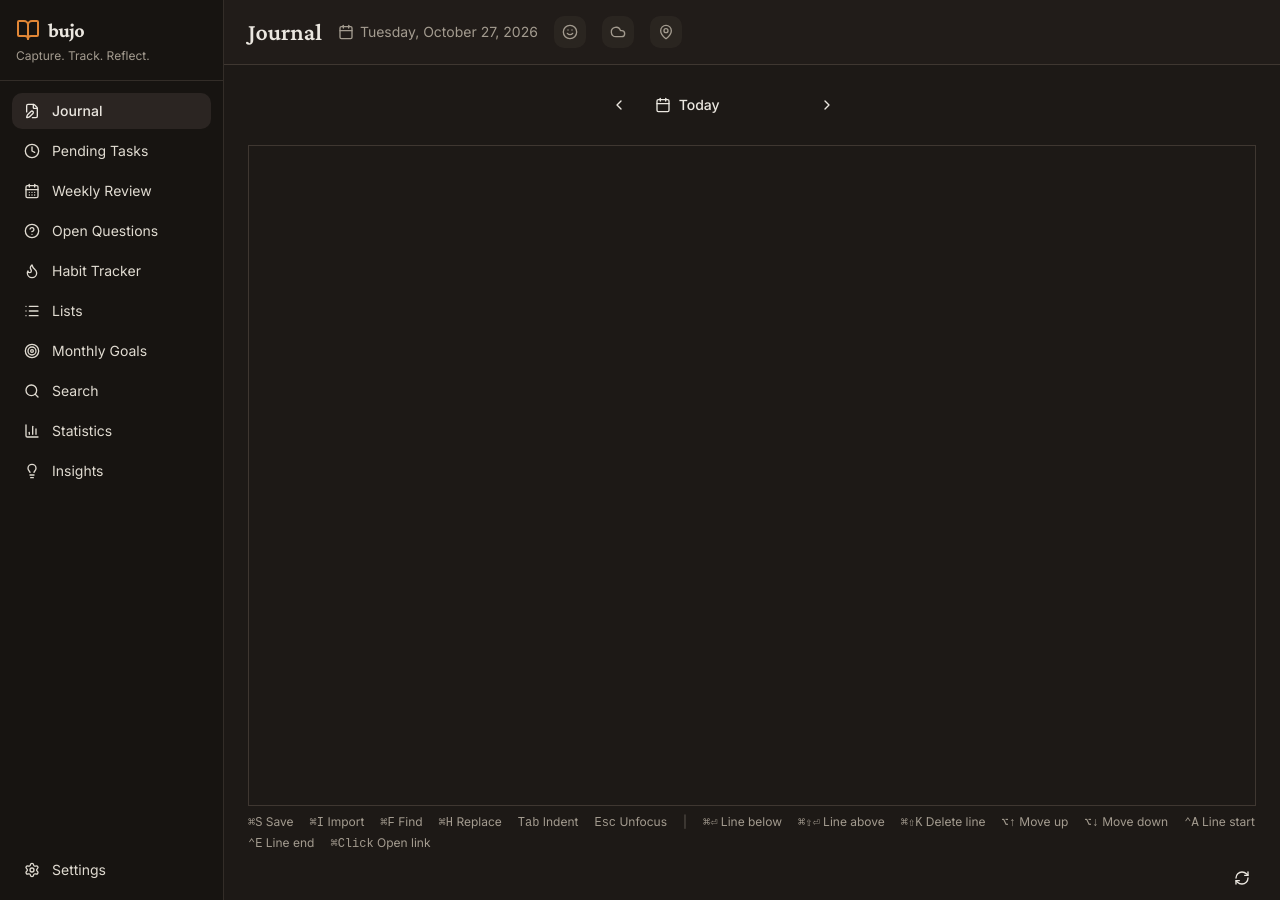
Test: App - Search Layout › search view container uses full width
Step 1. Click the button "Search" → (112, 391), box [12,373,211,409]
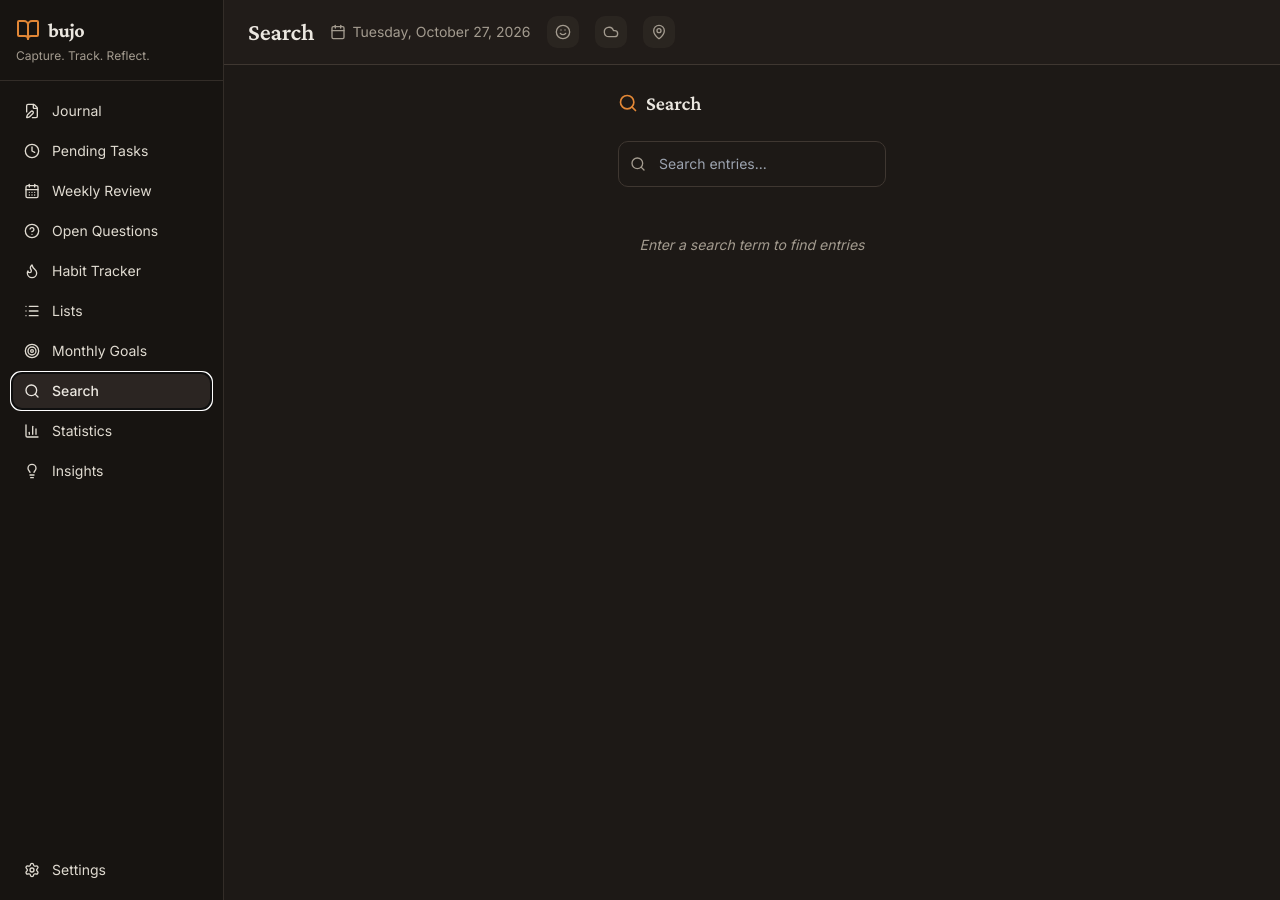
Expected: the field with placeholder "Search entries..." is shown, [618,141,886,187]
Expected: the element with placeholder "search entries" is shown, [618,89,886,279]
